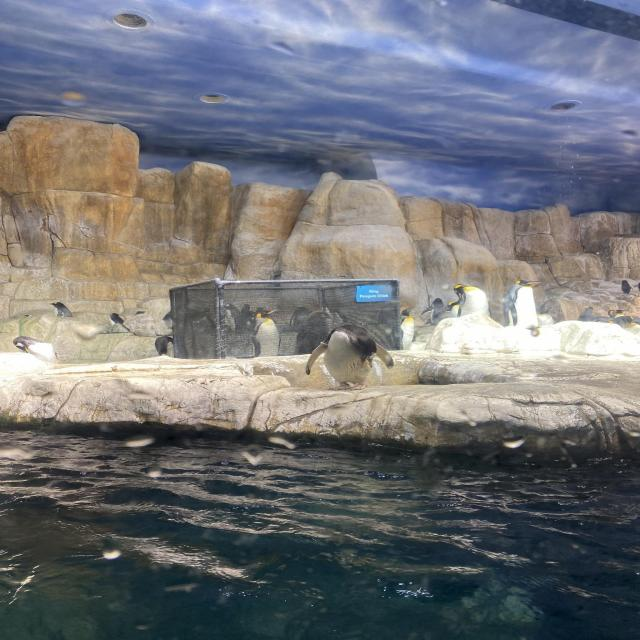penguin: (317, 327, 391, 389), (247, 307, 291, 360), (501, 276, 542, 332), (454, 282, 494, 321), (12, 334, 62, 361), (423, 294, 450, 328), (397, 306, 418, 349), (155, 336, 180, 360), (51, 299, 74, 321), (608, 310, 632, 330), (580, 303, 598, 325), (619, 280, 634, 296), (113, 313, 125, 327)
